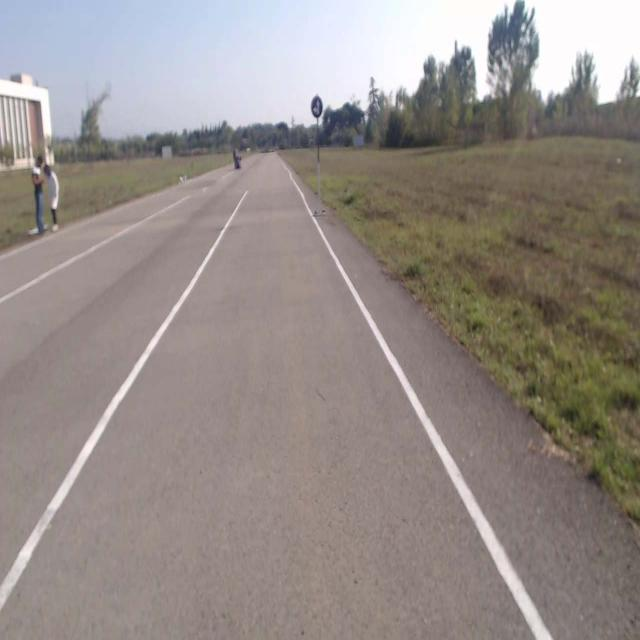ilerisag: (312, 97, 323, 118)
